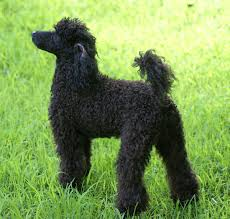Bulldog: (18, 10, 213, 211)
